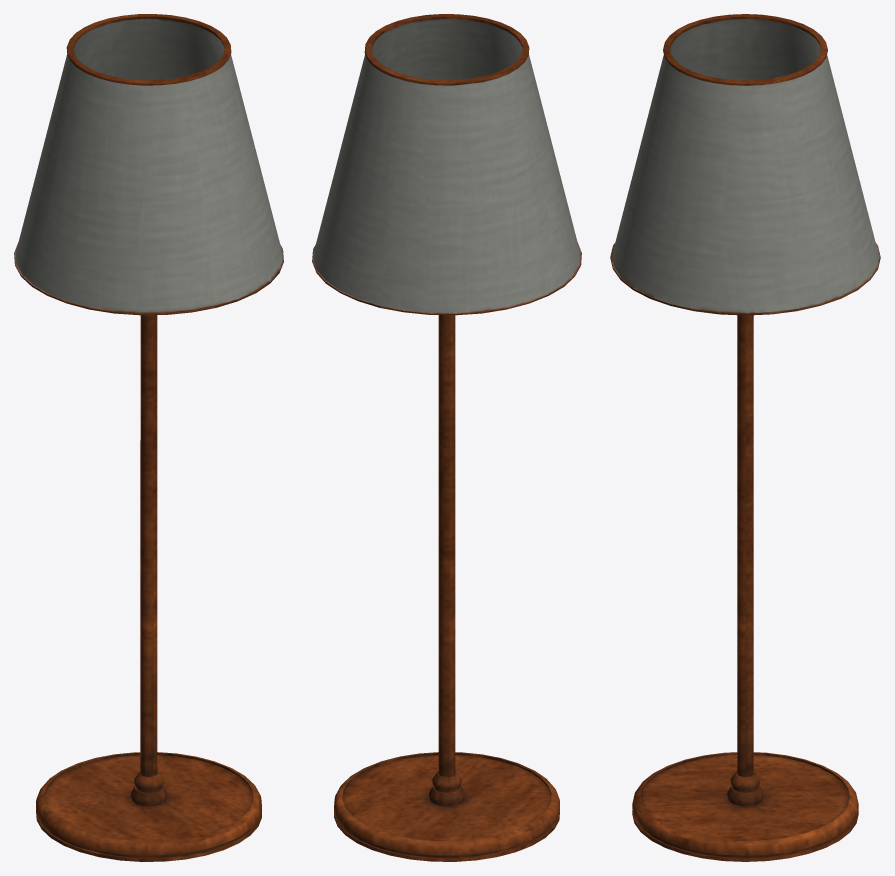
The model's file is floor_lamp.glb.
3 renders of one model, left to right at view 1: azimuth 30°, elevation 25°; view 2: azimuth 150°, elevation 25°; view 3: azimuth 270°, elevation 25°, orthographic.
Visible parts, largest first — view 1: mesh; view 2: mesh; view 3: mesh.
Part boxes in pixels (x1=…): mesh: x1=14, y1=14, x2=283, y2=861; mesh: x1=312, y1=14, x2=581, y2=861; mesh: x1=610, y1=14, x2=880, y2=861.
Size of the model in its own units: 0.4958 by 1.55 by 0.4958.
Materials: 1 (1 with a texture image).
